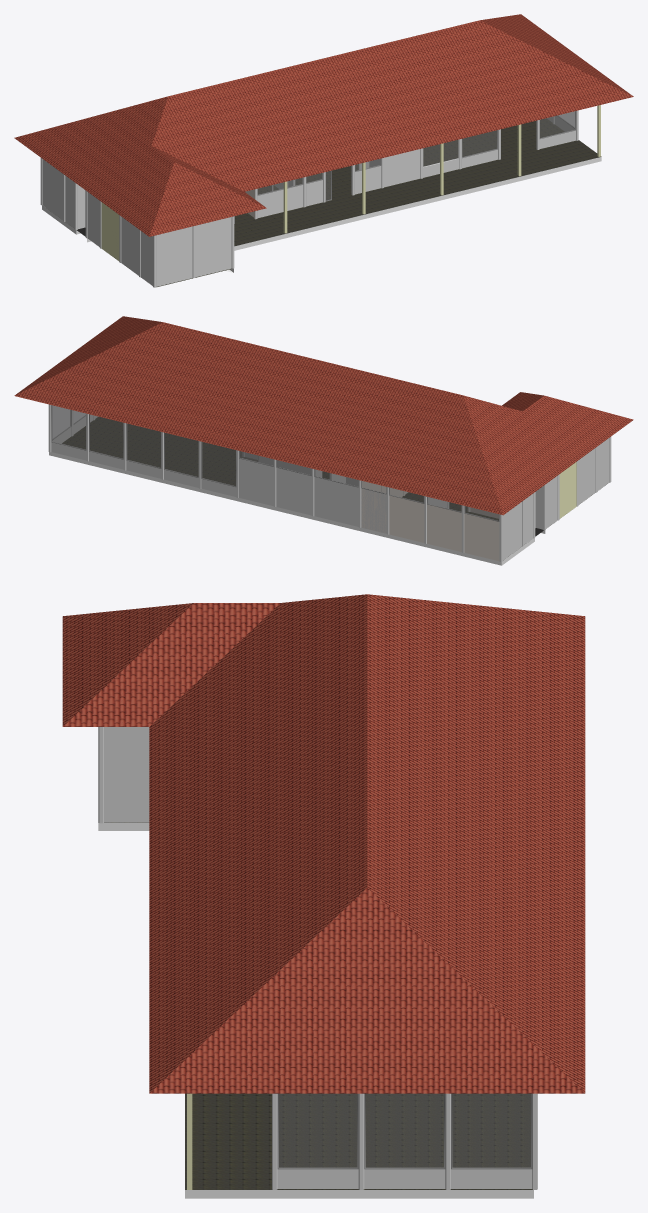
File: Aset.fbx
3 renders of one model, top to bottom at view 1: azimuth 30°, elevation 25°; view 2: azimuth 150°, elevation 25°; view 3: azimuth 270°, elevation 25°, orthographic. The views are drawn at different scales.
Visible parts, largest first — view 1: Aset; view 2: Aset; view 3: Aset.
Boxes of the visible parts, bbox=[...] form: Aset: bbox=[14, 14, 633, 287]; Aset: bbox=[14, 316, 633, 565]; Aset: bbox=[62, 594, 585, 1198].
Bounding box in the file's own units: 2605 × 612 × 1205.
11 materials, 3 textured.
